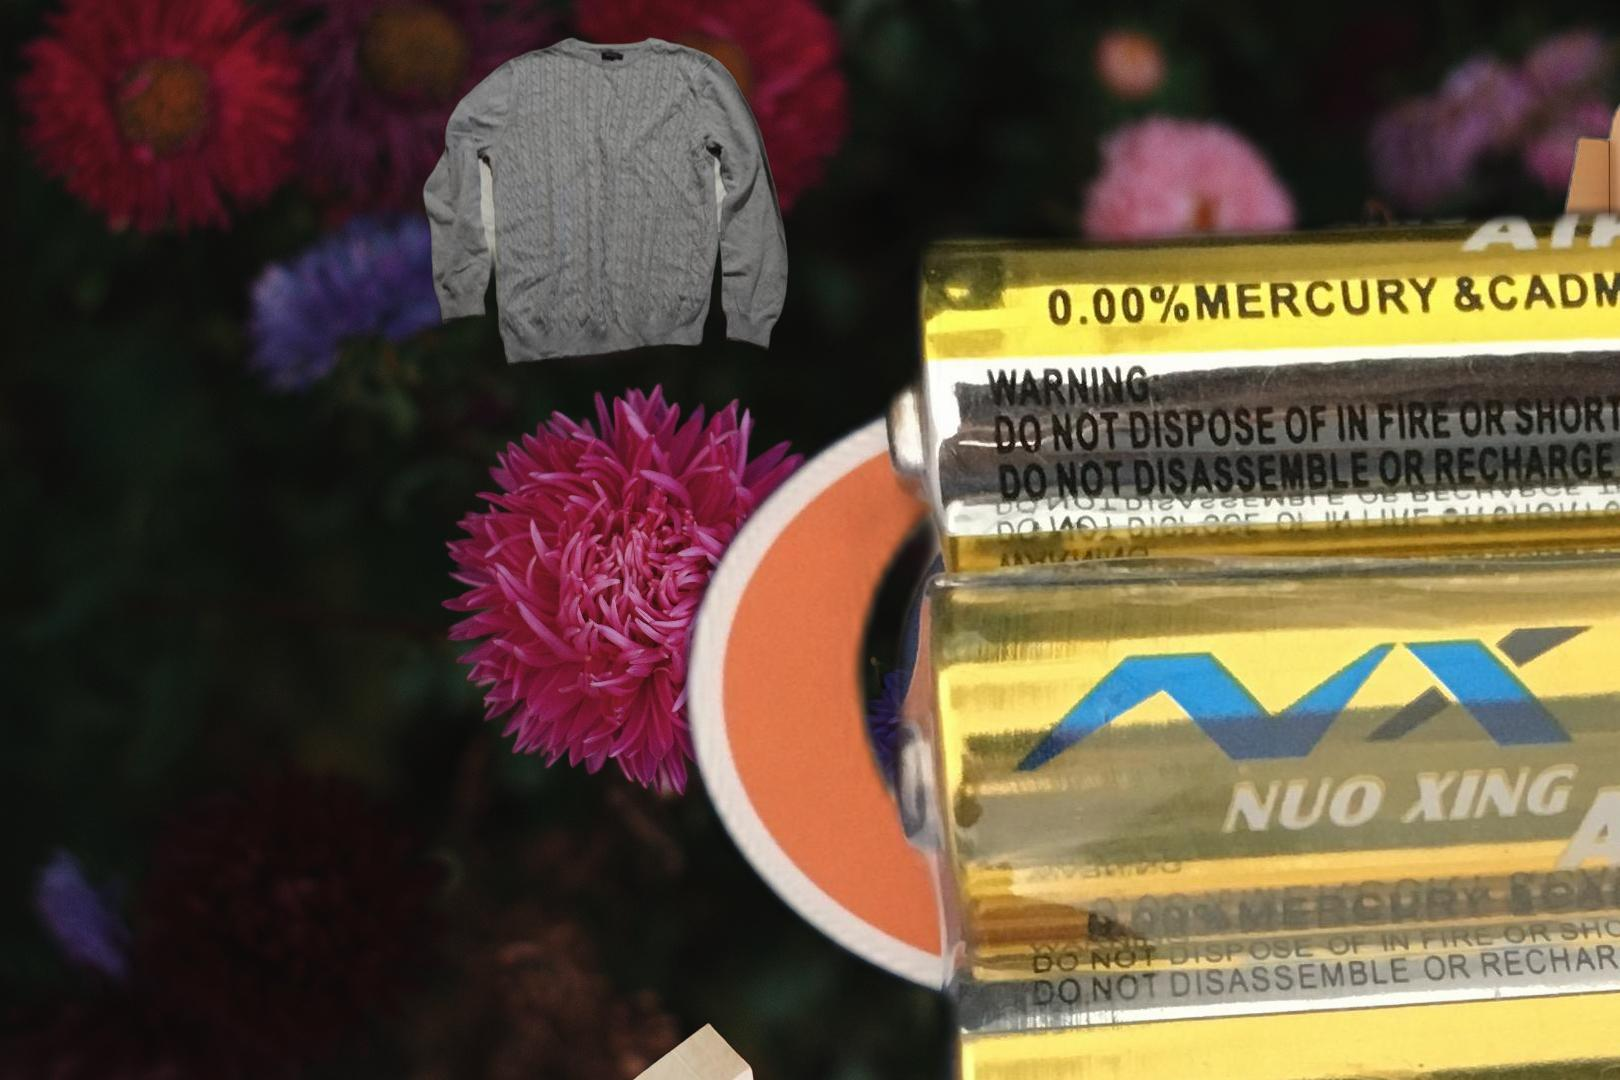battery: (656, 174, 1620, 1080)
biological: (1074, 466, 1537, 741), (1552, 1079, 1620, 1080)
clothes: (421, 34, 791, 369)
paper-bag: (609, 1020, 759, 1080)
trashbox-cardboard: (1540, 60, 1620, 1033)
